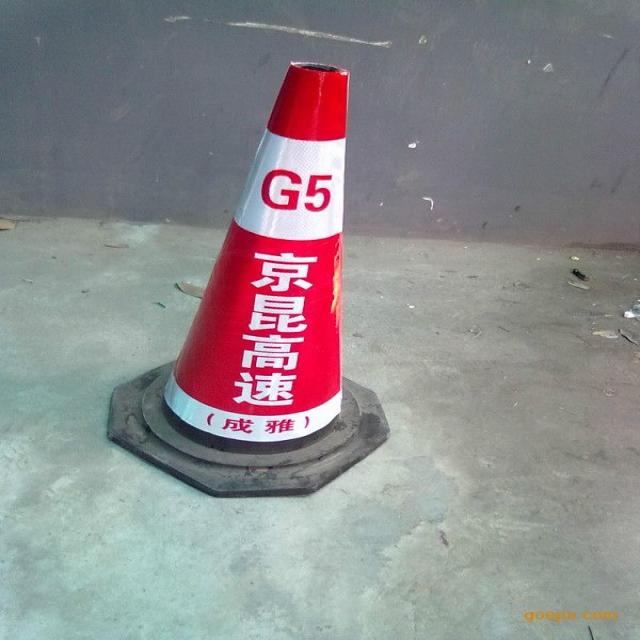reflective_cone: (99, 55, 395, 502)
